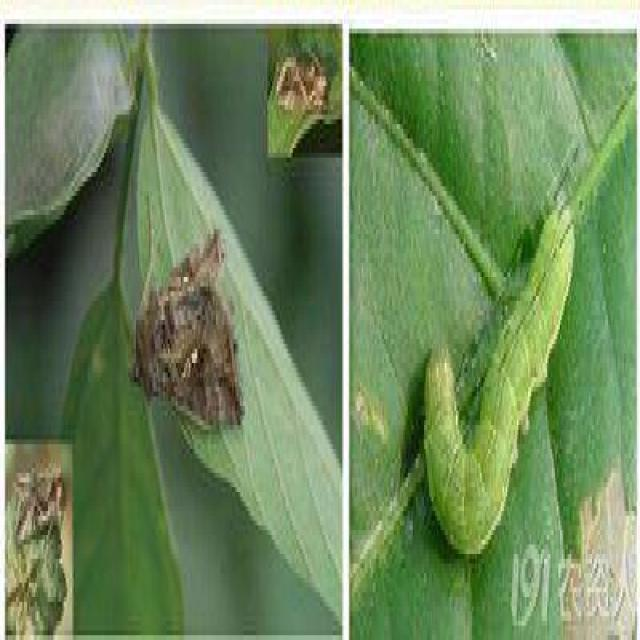BeetArmyWorm-Adult-: (124, 194, 254, 438)
BeetArmyWorm-Larva-: (412, 189, 586, 578)
